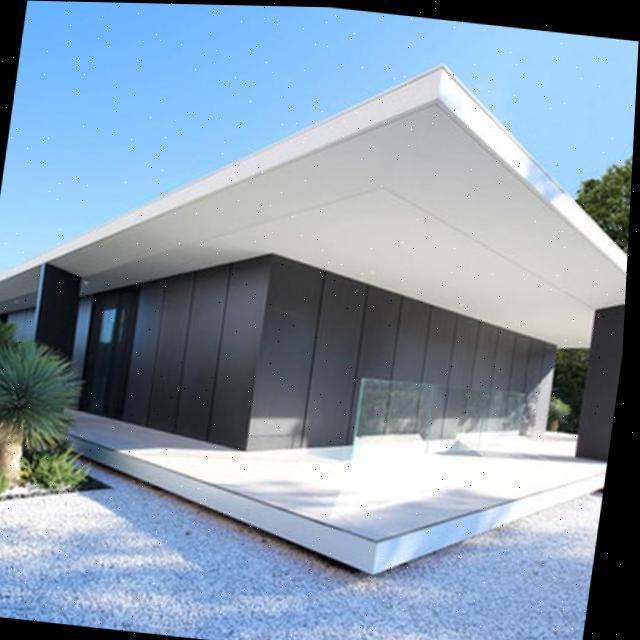building: (0, 17, 639, 488)
